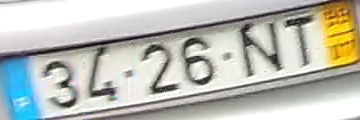2: (137, 39, 183, 99)
3: (38, 56, 81, 113)
4: (83, 48, 120, 103)
6: (176, 32, 219, 90)
N: (232, 19, 286, 82)
T: (280, 12, 315, 69)
